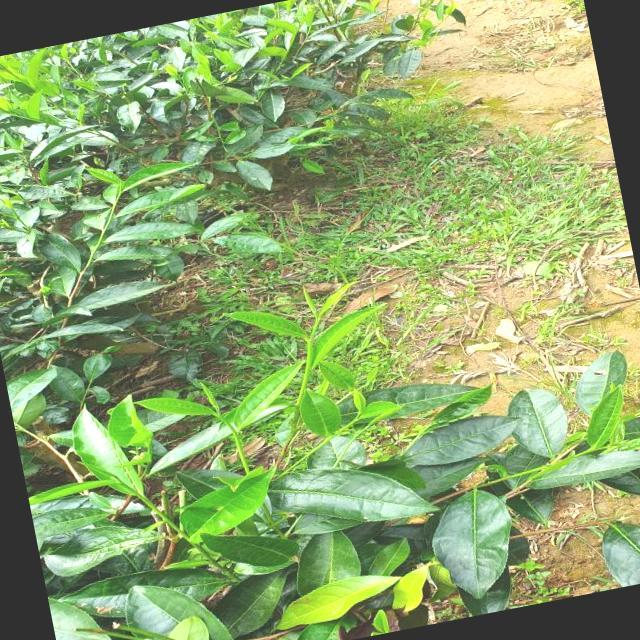Stem: (308, 339, 313, 347), (235, 432, 239, 438), (150, 504, 154, 508), (355, 418, 358, 421)
